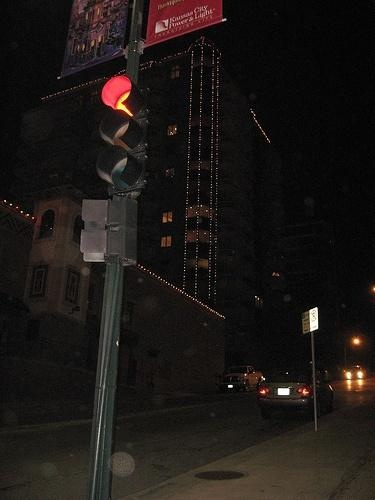car: (258, 367, 336, 424)
